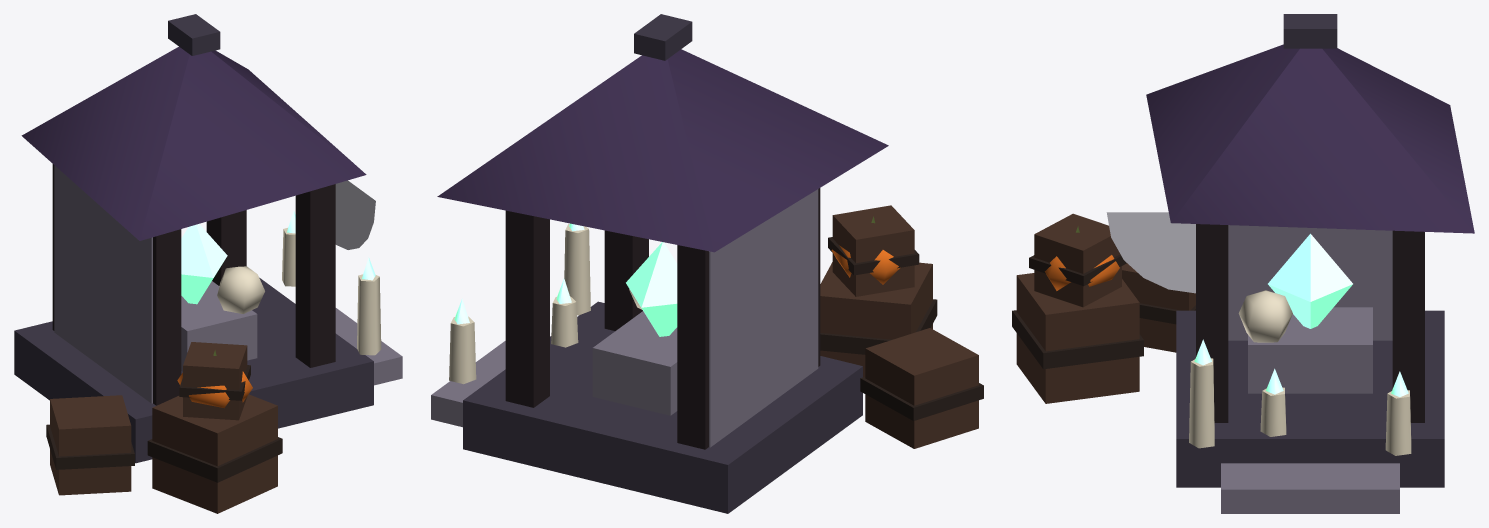
The model's file is landmark_shrine.glb.
3 views of the same model, side by side, from view 1: azimuth 30°, elevation 25°; view 2: azimuth 150°, elevation 25°; view 3: azimuth 270°, elevation 25° (orthographic). The views are drawn at different scales.
Parts seen in each view (by area): view 1: shrine_roof, shrine_base, shrine_back, shrine, crate_0_box, crate_1_box, crate_2_box, shrine_altar, shrine_relic, crate_0_band, web, candle_0 (+7 smaller); view 2: shrine_roof, shrine_base, shrine_back, shrine, crate_1_box, shrine_altar, crate_0_box, crate_2_box, shrine_relic, shrine_step, shrine_ridge, crate_1_band (+6 smaller); view 3: shrine_roof, shrine_base, shrine, crate_0_box, shrine_back, shrine_step, shrine_altar, web, crate_2_box, shrine_relic, crate_1_box, crate_0_band (+8 smaller).
Boxes of the visible parts, bbox=[...] form: shrine_roof: bbox=[21, 47, 366, 240]; shrine_base: bbox=[14, 277, 373, 463]; shrine_back: bbox=[54, 165, 152, 403]; shrine: bbox=[52, 164, 335, 405]; crate_0_box: bbox=[152, 394, 277, 513]; crate_1_box: bbox=[50, 395, 131, 495]; crate_2_box: bbox=[183, 342, 247, 420]; shrine_altar: bbox=[181, 281, 257, 371]; shrine_relic: bbox=[181, 224, 227, 304]; crate_0_band: bbox=[147, 437, 282, 482]; web: bbox=[335, 180, 375, 249]; candle_0: bbox=[357, 274, 381, 355]; shrine_roof: bbox=[437, 49, 888, 252]; shrine_base: bbox=[463, 301, 862, 513]; shrine_back: bbox=[709, 189, 818, 447]; shrine: bbox=[505, 188, 820, 449]; crate_1_box: bbox=[865, 328, 978, 448]; shrine_altar: bbox=[592, 311, 677, 415]; crate_0_box: bbox=[820, 262, 932, 377]; crate_2_box: bbox=[832, 205, 914, 296]; shrine_relic: bbox=[626, 242, 677, 336]; shrine_step: bbox=[431, 341, 505, 427]; shrine_ridge: bbox=[634, 14, 692, 60]; crate_1_band: bbox=[860, 377, 983, 420]; shrine_roof: bbox=[1146, 44, 1474, 233]; shrine_base: bbox=[1176, 310, 1444, 487]; shrine: bbox=[1196, 224, 1424, 422]; crate_0_box: bbox=[1016, 273, 1139, 403]; shrine_back: bbox=[1228, 225, 1392, 340]; shrine_step: bbox=[1221, 463, 1399, 513]; shrine_altar: bbox=[1248, 307, 1372, 393]; web: bbox=[1106, 212, 1195, 293]; crate_2_box: bbox=[1034, 213, 1121, 307]; shrine_relic: bbox=[1268, 233, 1352, 328]; crate_1_box: bbox=[1122, 263, 1195, 352]; crate_0_band: bbox=[1012, 310, 1143, 369].
Bounding box in the file's own units: 0.2721 × 0.248 × 0.2588.
